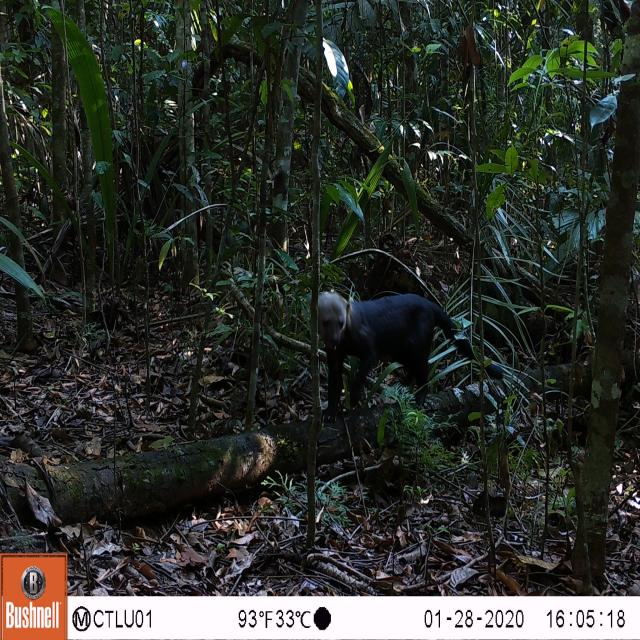Tayra: (319, 286, 508, 419)
